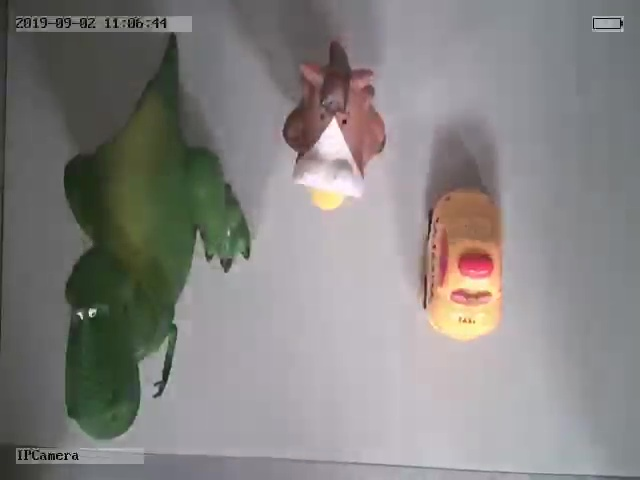car: (421, 187, 505, 340)
horse: (282, 41, 387, 210)
rex: (63, 52, 251, 439)
